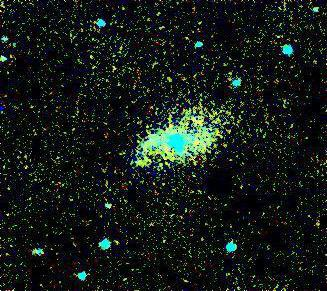star: (127, 149, 157, 179)
